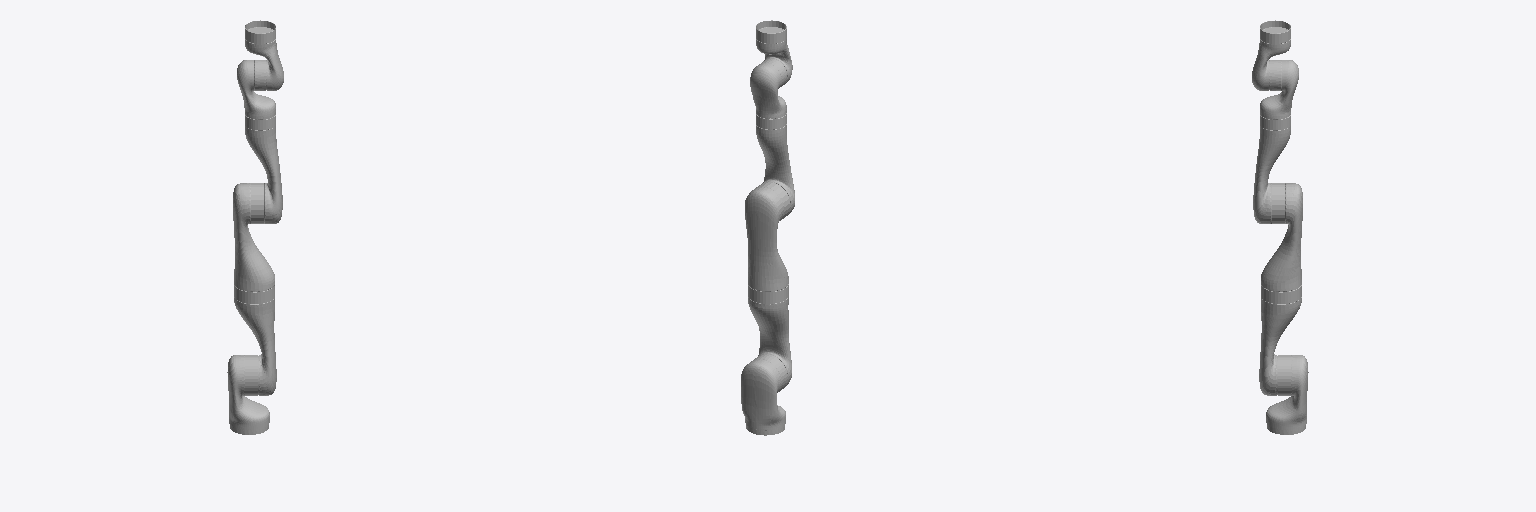
URDF robot description (GEN3_URDF_V12):
<?xml version="1.0"?>
<robot name="GEN3_URDF_V12">
    <link name="base_link">
        <inertial>
            <origin xyz="-0.000648 -0.000166 0.084487" rpy="0 0 0" />
            <mass value="1.697" />
            <inertia ixx="0.004622" ixy="9E-06" ixz="6E-05" iyy="0.004495" iyz="9E-06" izz="0.002079" />
        </inertial>
        <visual>
            <origin xyz="0 0 0" rpy="0 0 0" />
            <geometry>
                <mesh filename="package://hand_publisher/urdf/gen3_7dof/meshes/base_link.stl" scale="0.001 0.001 0.001"/>
            </geometry>
            <material name="">
                <color rgba="0.75294 0.75294 0.75294 1" />
            </material>
        </visual>
        <collision>
            <origin xyz="0 0 0" rpy="0 0 0" />
            <geometry>
                <mesh filename="package://hand_publisher/urdf/gen3_7dof/meshes/base_link.stl" />
            </geometry>
        </collision>
    </link>
    <link name="shoulder_link">
        <inertial>
            <origin xyz="-2.3E-05 -0.010364 -0.07336" rpy="0 0 0" />
            <mass value="1.3773" />
            <inertia ixx="0.00457" ixy="1E-06" ixz="2E-06" iyy="0.004831" iyz="0.000448" izz="0.001409" />
        </inertial>
        <visual>
            <origin xyz="0 0 0" rpy="0 0 0" />
            <geometry>
                <mesh filename="package://hand_publisher/urdf/gen3_7dof/meshes/shoulder_link.stl" />
            </geometry>
            <material name="">
                <color rgba="0.75294 0.75294 0.75294 1" />
            </material>
        </visual>
        <collision>
            <origin xyz="0 0 0" rpy="0 0 0" />
            <geometry>
                <mesh filename="package://hand_publisher/urdf/gen3_7dof/meshes/shoulder_link.stl" />
            </geometry>
        </collision>
    </link>
    <joint name="Actuator1" type="continuous">
        <origin xyz="0 0 0.15643" rpy="3.1416 2.7629E-18 -4.9305E-36" />
        <parent link="base_link" />
        <child link="shoulder_link" />
        <axis xyz="0 0 1" />
        <limit effort="39" velocity="0.8727" />
    </joint>
    <link name="half_arm_1_link">
        <inertial>
            <origin xyz="-4.4E-05 -0.09958 -0.013278" rpy="0 0 0" />
            <mass value="1.1636" />
            <inertia ixx="0.011088" ixy="5E-06" ixz="0" iyy="0.001072" iyz="-0.000691" izz="0.011255" />
        </inertial>
        <visual>
            <origin xyz="0 0 0" rpy="0 0 0" />
            <geometry>
                <mesh filename="package://hand_publisher/urdf/gen3_7dof/meshes/half_arm_1_link.stl" />
            </geometry>
            <material name="">
                <color rgba="0.75294 0.75294 0.75294 1" />
            </material>
        </visual>
        <collision>
            <origin xyz="0 0 0" rpy="0 0 0" />
            <geometry>
                <mesh filename="package://hand_publisher/urdf/gen3_7dof/meshes/half_arm_1_link.stl" />
            </geometry>
        </collision>
    </link>
    <joint name="Actuator2" type="revolute">
        <origin xyz="0 0.005375 -0.12838" rpy="1.5708 2.1343E-17 -1.1102E-16" />
        <parent link="shoulder_link" />
        <child link="half_arm_1_link" />
        <axis xyz="0 0 1" />
        <limit lower="-2.41" upper="2.41" effort="39" velocity="0.8727" />
    </joint>
    <link name="half_arm_2_link">
        <inertial>
            <origin xyz="-4.4E-05 -0.006641 -0.117892" rpy="0 0 0" />
            <mass value="1.1636" />
            <inertia ixx="0.010932" ixy="0" ixz="-7E-06" iyy="0.011127" iyz="0.000606" izz="0.001043" />
        </inertial>
        <visual>
            <origin xyz="0 0 0" rpy="0 0 0" />
            <geometry>
                <mesh filename="package://hand_publisher/urdf/gen3_7dof/meshes/half_arm_2_link.stl" />
            </geometry>
            <material name="">
                <color rgba="0.75294 0.75294 0.75294 1" />
            </material>
        </visual>
        <collision>
            <origin xyz="0 0 0" rpy="0 0 0" />
            <geometry>
                <mesh filename="package://hand_publisher/urdf/gen3_7dof/meshes/half_arm_2_link.stl" />
            </geometry>
        </collision>
    </link>
    <joint name="Actuator3" type="continuous">
        <origin xyz="0 -0.21038 -0.006375" rpy="-1.5708 1.2326E-32 -2.9122E-16" />
        <parent link="half_arm_1_link" />
        <child link="half_arm_2_link" />
        <axis xyz="0 0 1" />
        <limit effort="39" velocity="0.8727" />
    </joint>
    <link name="forearm_link">
        <inertial>
            <origin xyz="-1.8E-05 -0.075478 -0.015006" rpy="0 0 0" />
            <mass value="0.9302" />
            <inertia ixx="0.008147" ixy="-1E-06" ixz="0" iyy="0.000631" iyz="-0.0005" izz="0.008316" />
        </inertial>
        <visual>
            <origin xyz="0 0 0" rpy="0 0 0" />
            <geometry>
                <mesh filename="package://hand_publisher/urdf/gen3_7dof/meshes/forearm_link.stl" />
            </geometry>
            <material name="">
                <color rgba="0.75294 0.75294 0.75294 1" />
            </material>
        </visual>
        <collision>
            <origin xyz="0 0 0" rpy="0 0 0" />
            <geometry>
                <mesh filename="package://hand_publisher/urdf/gen3_7dof/meshes/forearm_link.stl" />
            </geometry>
        </collision>
    </link>
    <joint name="Actuator4" type="revolute">
        <origin xyz="0 0.006375 -0.21038" rpy="1.5708 -6.6954E-17 -1.6653E-16" />
        <parent link="half_arm_2_link" />
        <child link="forearm_link" />
        <axis xyz="0 0 1" />
        <limit lower="-2.66" upper="2.66" effort="39" velocity="0.8727" />
    </joint>
    <link name="spherical_wrist_1_link">
        <inertial>
            <origin xyz="1E-06 -0.009432 -0.063883" rpy="0 0 0" />
            <mass value="0.6781" />
            <inertia ixx="0.001596" ixy="0" ixz="0" iyy="0.001607" iyz="0.000256" izz="0.000399" />
        </inertial>
        <visual>
            <origin xyz="0 0 0" rpy="0 0 0" />
            <geometry>
                <mesh filename="package://hand_publisher/urdf/gen3_7dof/meshes/spherical_wrist_1_link.stl" />
            </geometry>
            <material name="">
                <color rgba="0.75294 0.75294 0.75294 1" />
            </material>
        </visual>
        <collision>
            <origin xyz="0 0 0" rpy="0 0 0" />
            <geometry>
                <mesh filename="package://hand_publisher/urdf/gen3_7dof/meshes/spherical_wrist_1_link.stl" />
            </geometry>
        </collision>
    </link>
    <joint name="Actuator5" type="continuous">
        <origin xyz="0 -0.20843 -0.006375" rpy="-1.5708 2.2204E-16 -6.373E-17" />
        <parent link="forearm_link" />
        <child link="spherical_wrist_1_link" />
        <axis xyz="0 0 1" />
        <limit effort="9" velocity="0.8727" />
    </joint>
    <link name="spherical_wrist_2_link">
        <inertial>
            <origin xyz="1E-06 -0.045483 -0.00965" rpy="0 0 0" />
            <mass value="0.6781" />
            <inertia ixx="0.001641" ixy="0" ixz="0" iyy="0.00041" iyz="-0.000278" izz="0.001641" />
        </inertial>
        <visual>
            <origin xyz="0 0 0" rpy="0 0 0" />
            <geometry>
                <mesh filename="package://hand_publisher/urdf/gen3_7dof/meshes/spherical_wrist_2_link.stl" />
            </geometry>
            <material name="">
                <color rgba="0.75294 0.75294 0.75294 1" />
            </material>
        </visual>
        <collision>
            <origin xyz="0 0 0" rpy="0 0 0" />
            <geometry>
                <mesh filename="package://hand_publisher/urdf/gen3_7dof/meshes/spherical_wrist_2_link.stl" />
            </geometry>
        </collision>
    </link>
    <joint name="Actuator6" type="revolute">
        <origin xyz="0 0.00017505 -0.10593" rpy="1.5708 9.2076E-28 -8.2157E-15" />
        <parent link="spherical_wrist_1_link" />
        <child link="spherical_wrist_2_link" />
        <axis xyz="0 0 1" />
        <limit lower="-2.23" upper="2.23" effort="9" velocity="0.8727" />
    </joint>
    <link name="bracelet_with_vision_link">
        <inertial>
            <origin xyz="-0.000281 -0.011402 -0.029798" rpy="0 0 0" />
            <mass value="0.5006" />
            <inertia ixx="0.000587" ixy="3E-06" ixz="3E-06" iyy="0.000369" iyz="0.000118" izz="0.000609" />
        </inertial>
        <visual>
            <origin xyz="0 0 0" rpy="0 0 0" />
            <geometry>
                <mesh filename="package://hand_publisher/urdf/gen3_7dof/meshes/bracelet_with_vision_link.stl" />
            </geometry>
            <material name="">
                <color rgba="0.75294 0.75294 0.75294 1" />
            </material>
        </visual>
        <collision>
            <origin xyz="0 0 0" rpy="0 0 0" />
            <geometry>
                <mesh filename="package://hand_publisher/urdf/gen3_7dof/meshes/bracelet_with_vision_link.stl" />
            </geometry>
        </collision>
    </link>
    <joint name="Actuator7" type="continuous">
        <origin xyz="0 -0.10593 -0.00017505" rpy="-1.5708 -5.5511E-17 9.6396E-17" />
        <parent link="spherical_wrist_2_link" />
        <child link="bracelet_with_vision_link" />
        <axis xyz="0 0 1" />
        <limit effort="9" velocity="0.8727" />
    </joint>
    <link name="end_effector_link" />
    <joint name="EndEffector" type="fixed">
        <origin xyz="0 0 -0.0615250000000001" rpy="3.14159265358979 1.09937075168372E-32 0" />
        <parent link="bracelet_with_vision_link" />
        <child link="end_effector_link" />
        <axis xyz="0 0 0" />
    </joint>

    <transmission name="Actuator1_transmission" >
        <type>transmission_interface/SimpleTransmission</type>
        <joint name="Actuator1" />
        <actuator name="motor_1" />
    </transmission>
    <transmission name="Actuator2_transmission" >
        <type>transmission_interface/SimpleTransmission</type>
        <joint name="Actuator2" />
        <actuator name="motor_2" />
    </transmission>
    <transmission name="Actuator3_transmission" >
        <type>transmission_interface/SimpleTransmission</type>
        <joint name="Actuator3" />
        <actuator name="motor_3" />
    </transmission>
    <transmission name="Actuator4_transmission" >
        <type>transmission_interface/SimpleTransmission</type>
        <joint name="Actuator4" />
        <actuator name="motor_4" />
    </transmission>
    <transmission name="Actuator5_transmission" >
        <type>transmission_interface/SimpleTransmission</type>
        <joint name="Actuator5" />
        <actuator name="motor_5" />
    </transmission>
    <transmission name="Actuator6_transmission" >
        <type>transmission_interface/SimpleTransmission</type>
        <joint name="Actuator6" />
        <actuator name="motor_6" />
    </transmission>
    <transmission name="Actuator7_transmission" >
        <type>transmission_interface/SimpleTransmission</type>
        <joint name="Actuator7" />
        <actuator name="motor_7" />
    </transmission>
</robot>

--- What the picture shows (computed from the rendered views, not written in the file) ---
3 views of the same robot in one strip: view 1: azimuth 90°, elevation 25°; view 2: azimuth 150°, elevation 25°; view 3: azimuth 270°, elevation 25° (orthographic).
Model GEN3_URDF_V12 with 9 links and 8 joints (3 revolute, 4 continuous, 1 fixed), rooted at base_link, posed all joints at 0.
Links seen in each view (by area): view 1: half_arm_2_link, half_arm_1_link, shoulder_link, forearm_link, spherical_wrist_1_link, spherical_wrist_2_link; view 2: half_arm_2_link, shoulder_link, half_arm_1_link, forearm_link, spherical_wrist_1_link, spherical_wrist_2_link; view 3: half_arm_2_link, half_arm_1_link, shoulder_link, forearm_link, spherical_wrist_1_link, spherical_wrist_2_link.
Boxes of the visible links, x1,y1,x2,y2 form: half_arm_2_link: (233, 183, 274, 291); half_arm_1_link: (234, 285, 276, 395); shoulder_link: (227, 355, 269, 434); forearm_link: (245, 115, 282, 223); spherical_wrist_1_link: (237, 60, 275, 119); spherical_wrist_2_link: (245, 20, 283, 90); half_arm_2_link: (745, 182, 790, 291); shoulder_link: (741, 354, 787, 435); half_arm_1_link: (748, 284, 791, 387); forearm_link: (756, 113, 794, 215); spherical_wrist_1_link: (750, 58, 786, 118); spherical_wrist_2_link: (756, 20, 792, 84); half_arm_2_link: (1261, 183, 1302, 291); half_arm_1_link: (1259, 285, 1301, 395); shoulder_link: (1266, 355, 1308, 434); forearm_link: (1253, 115, 1290, 223); spherical_wrist_1_link: (1260, 60, 1298, 119); spherical_wrist_2_link: (1252, 20, 1290, 90).
Size in the robot's own frame: 0.0927 by 0.1267 by 1.14 metres.
7 mesh visuals loaded from 8 distinct referenced files (7 ASCII STL); not drawn: 1 (reference not matched to a file when rendering).